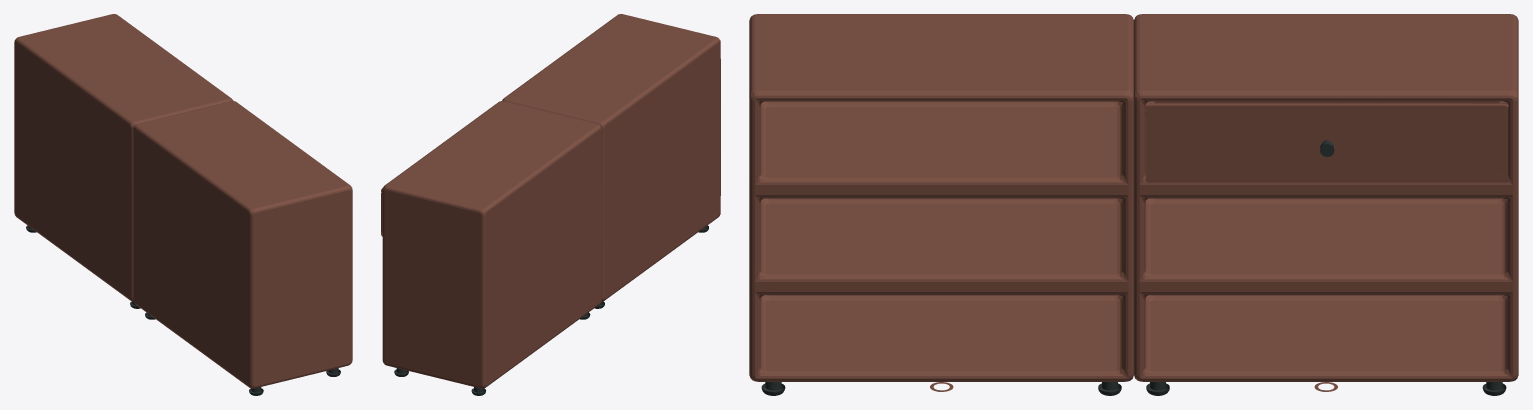
The model's file is Cajonera.fbx.
The picture shows the model from 3 angles, left to right: view 1: azimuth 30°, elevation 25°; view 2: azimuth 150°, elevation 25°; view 3: azimuth 270°, elevation 25°; orthographic projection. The views are drawn at different scales.
Visible parts, largest first — view 1: Cube.001; view 2: Cube.001; view 3: Cube.001, Cube.002.
Boxes of the visible parts, <box> form: Cube.001: <box>14,14,352,395</box>; Cube.001: <box>382,14,720,395</box>; Cube.001: <box>749,14,1518,395</box>; Cube.002: <box>1145,101,1508,182</box>.
Size of the model in its own units: 133 by 213 by 480.
